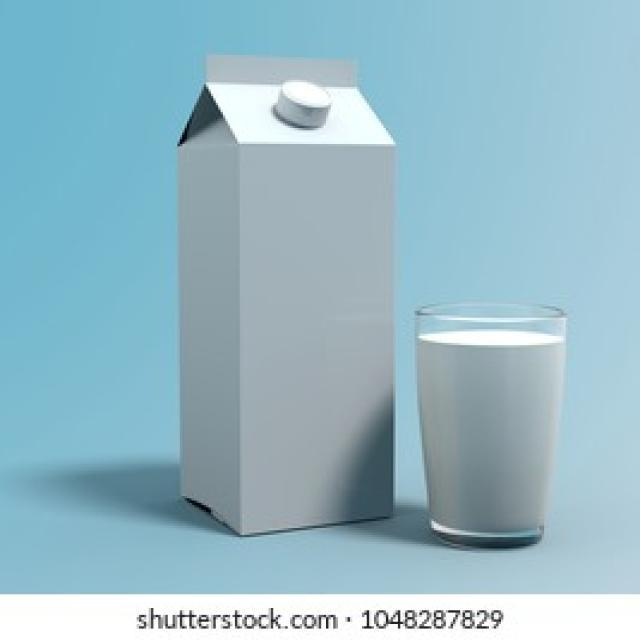Carton: (158, 44, 412, 558)
